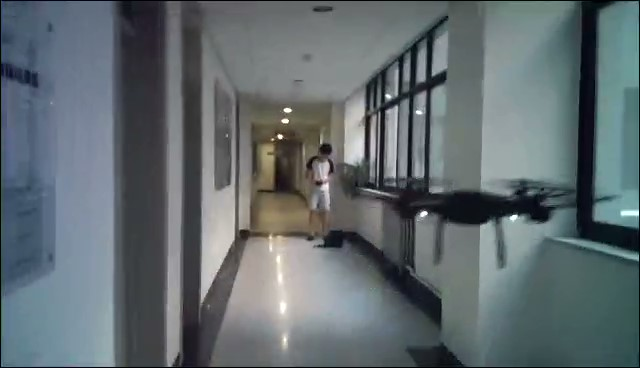drone: (356, 177, 623, 271)
person: (304, 144, 337, 241)
